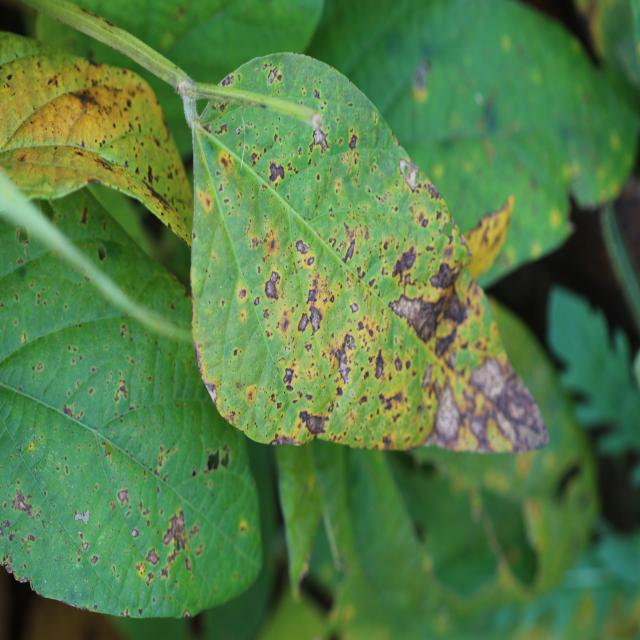Bacterial_Blight: (485, 366, 549, 447), (158, 509, 192, 572), (434, 385, 461, 440), (434, 318, 462, 359), (428, 259, 460, 291), (332, 335, 353, 381), (391, 247, 418, 281), (479, 95, 500, 133), (9, 488, 35, 517), (412, 59, 431, 94), (398, 158, 418, 190), (156, 442, 176, 471), (304, 413, 327, 436), (74, 89, 99, 110), (196, 186, 214, 213), (265, 276, 282, 303), (311, 128, 330, 152), (16, 224, 30, 254), (308, 305, 322, 333), (268, 160, 285, 183), (342, 238, 356, 264), (374, 351, 385, 379), (114, 382, 128, 403), (219, 152, 233, 173), (144, 547, 160, 565), (206, 450, 219, 472), (245, 384, 258, 405), (205, 382, 217, 404), (74, 509, 90, 525), (295, 239, 310, 255), (298, 312, 309, 333), (306, 286, 318, 305), (101, 440, 115, 456), (117, 488, 129, 506), (283, 367, 294, 386), (279, 315, 290, 334), (267, 68, 279, 84), (62, 404, 75, 418), (97, 243, 107, 261), (348, 133, 358, 150), (221, 74, 234, 86), (80, 206, 88, 225), (250, 151, 260, 166), (0, 518, 11, 531), (147, 164, 154, 184), (26, 440, 36, 454), (394, 357, 403, 372), (239, 520, 248, 534), (120, 323, 128, 337), (90, 555, 100, 565), (350, 302, 359, 313), (262, 308, 270, 320), (313, 88, 321, 99), (27, 533, 36, 542), (131, 528, 139, 538), (82, 541, 90, 551), (239, 288, 246, 299), (21, 332, 28, 343), (183, 609, 191, 618), (253, 296, 260, 306), (235, 126, 242, 135), (191, 467, 197, 477), (297, 146, 303, 155), (285, 345, 290, 353), (93, 603, 98, 611), (254, 66, 259, 72)
Soybean: (191, 53, 548, 453)
